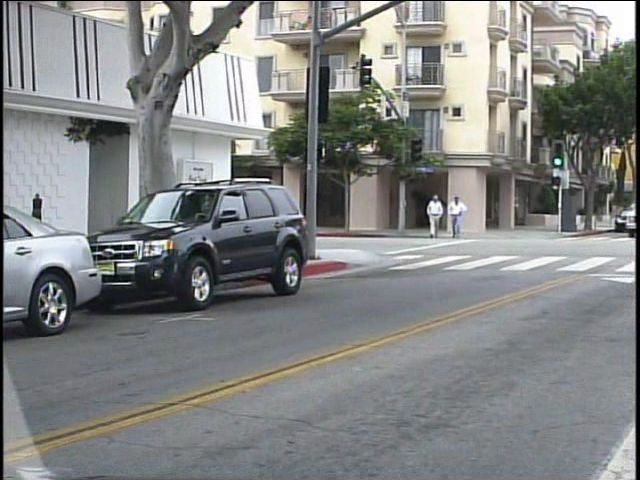person: (422, 190, 446, 243), (446, 191, 469, 243)
